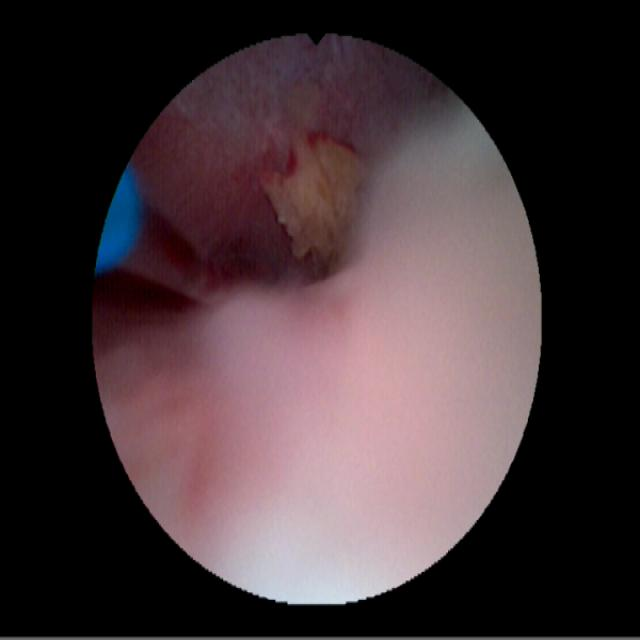fiber: (98, 169, 138, 269)
stone: (261, 134, 366, 274)
tissue: (100, 47, 515, 571)
